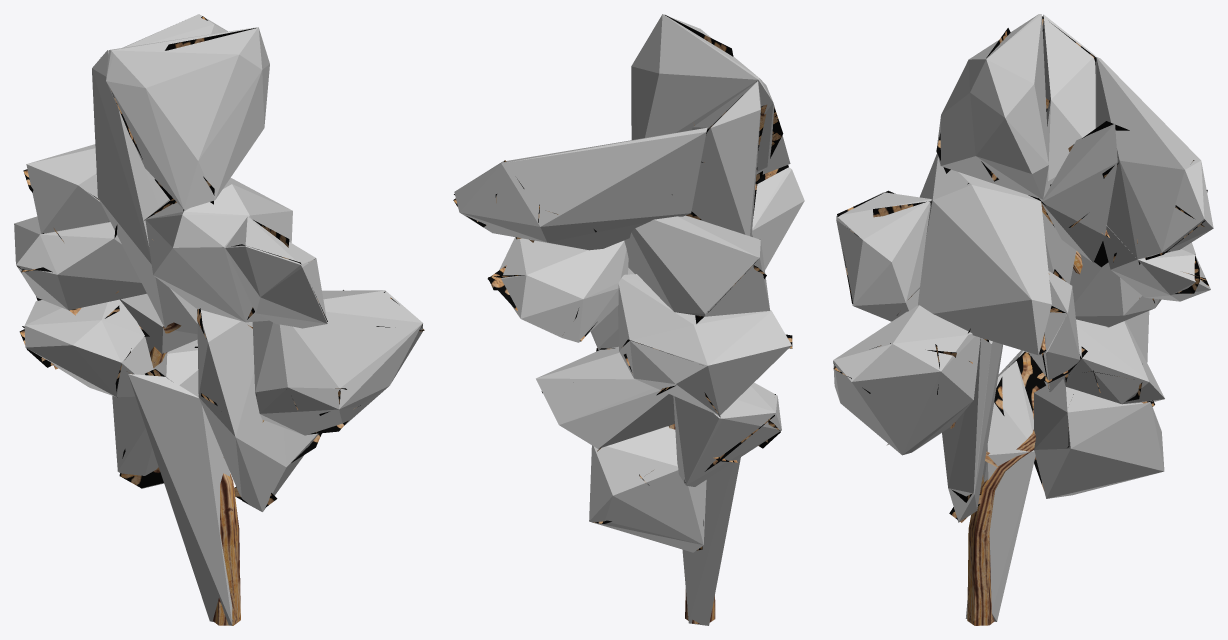
The model's file is SM_DeadTree_a.fbx.
3 views of the same model, side by side, from view 1: azimuth 30°, elevation 25°; view 2: azimuth 150°, elevation 25°; view 3: azimuth 270°, elevation 25° (orthographic). The views are drawn at different scales.
Parts seen in each view (by area): view 1: SM_DeadTree_a_ConvexHulls, SM_DeadTree_a; view 2: SM_DeadTree_a_ConvexHulls, SM_DeadTree_a; view 3: SM_DeadTree_a_ConvexHulls, SM_DeadTree_a.
Boxes of the visible parts, x1=… form: SM_DeadTree_a_ConvexHulls: x1=14, y1=14, x2=422, y2=625; SM_DeadTree_a: x1=17, y1=16, x2=424, y2=625; SM_DeadTree_a_ConvexHulls: x1=454, y1=14, x2=804, y2=625; SM_DeadTree_a: x1=453, y1=15, x2=792, y2=623; SM_DeadTree_a_ConvexHulls: x1=833, y1=14, x2=1213, y2=621; SM_DeadTree_a: x1=833, y1=16, x2=1208, y2=625.
Bounding box in the file's own units: 290 × 344 × 577.
Materials: 3 (2 with a texture image).
